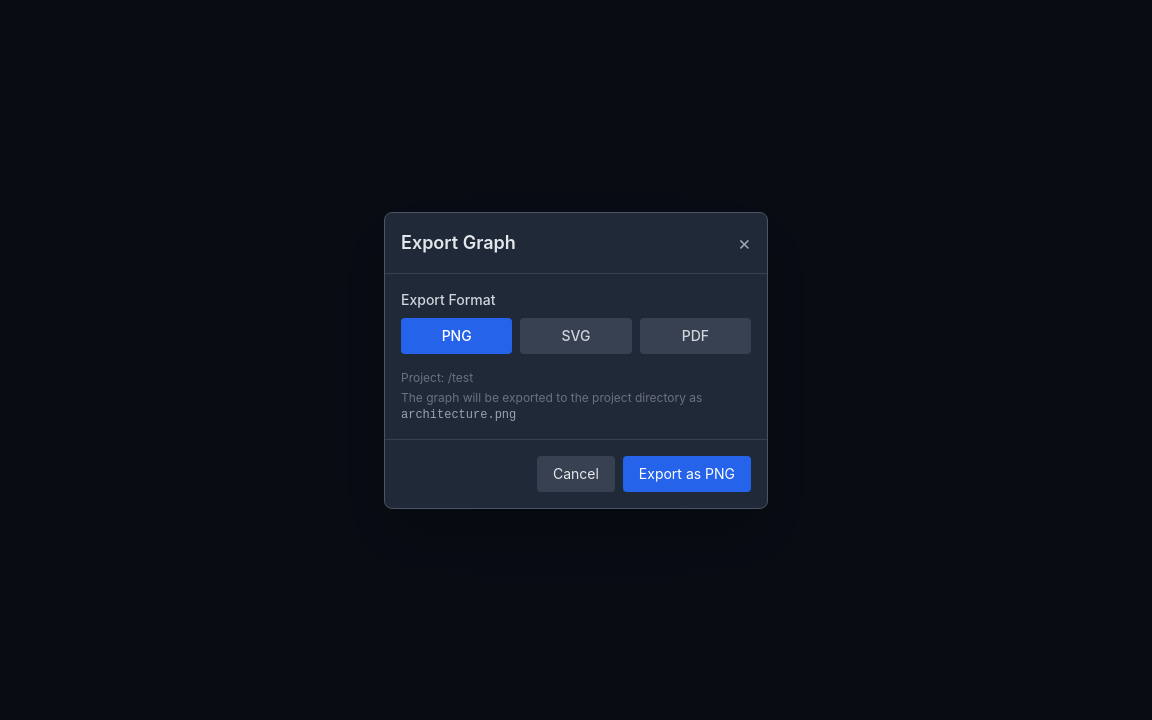
it: ExportDialog › disables export button while exporting
Click the button "Export as PNG".
click(687, 474)  # box 623,456 -> 751,492
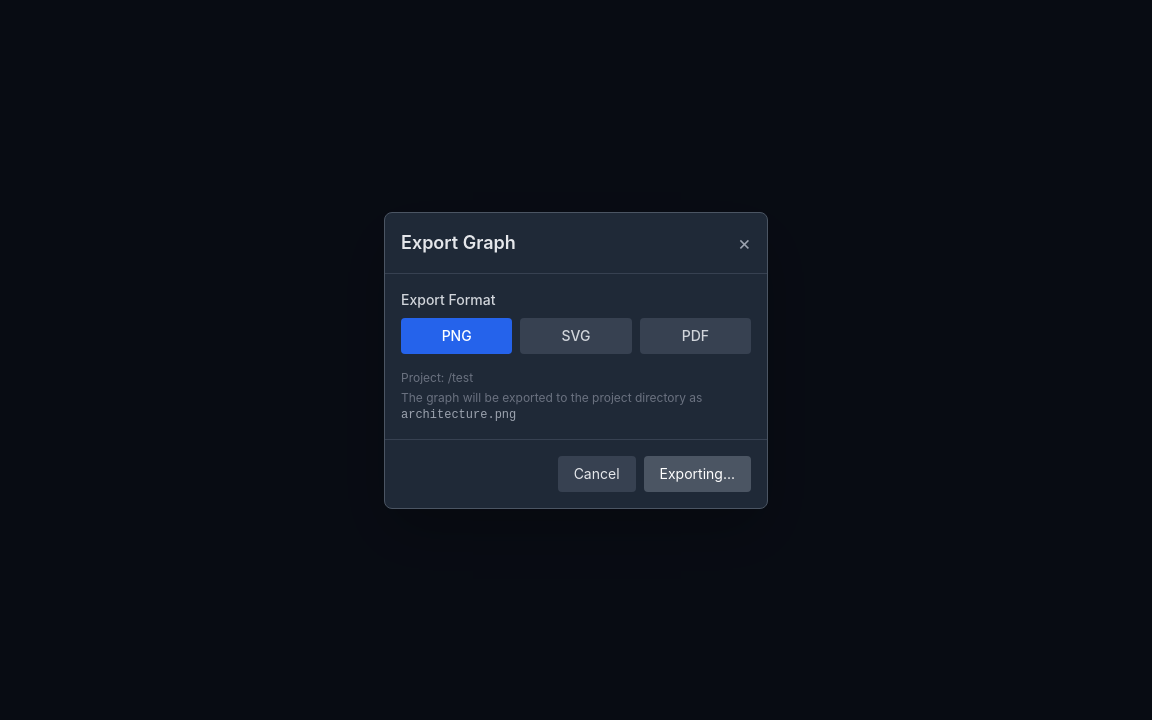
expect the button "Exporting..." is disabled: met, box 644,456 -> 751,492
